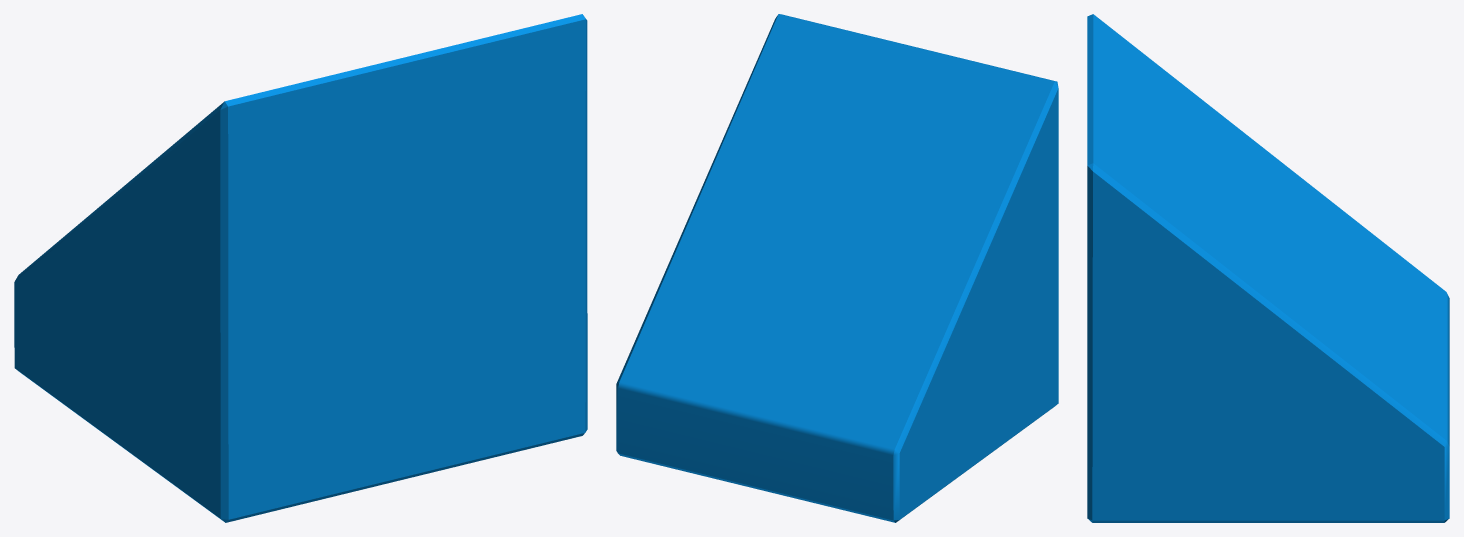
File: Slide_Pyramid_02.fbx
3 renders of one model, left to right at view 1: azimuth 30°, elevation 25°; view 2: azimuth 150°, elevation 25°; view 3: azimuth 270°, elevation 25°, orthographic. The views are drawn at different scales.
Visible parts, largest first — view 1: Slide_Pyramid_02; view 2: Slide_Pyramid_02; view 3: Slide_Pyramid_02.
Part boxes in pixels (x1,y1,x2,y2): Slide_Pyramid_02: (14,14,587,522); Slide_Pyramid_02: (616,14,1058,522); Slide_Pyramid_02: (1087,14,1449,522).
Size of the model in its own units: 16.85 by 18.49 by 16.86.
